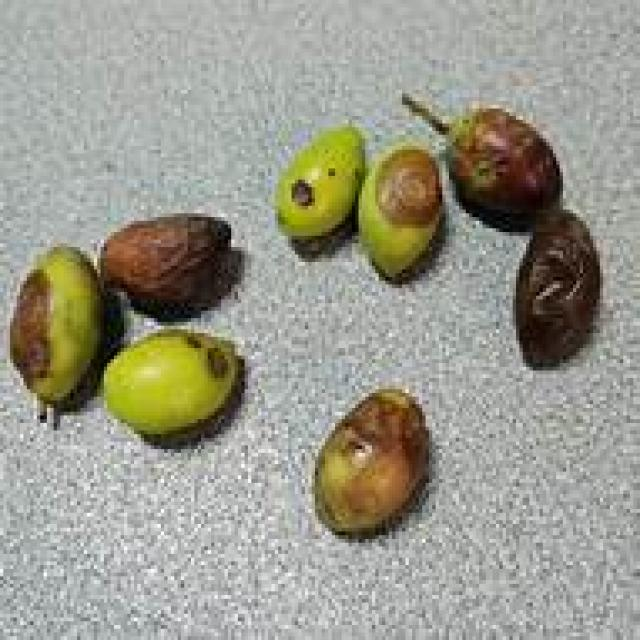Olive Fruit Fly: (104, 326, 241, 445), (315, 389, 426, 531), (101, 213, 241, 322), (10, 243, 97, 415), (446, 105, 563, 231), (513, 206, 600, 367), (359, 138, 442, 281), (275, 124, 362, 236)
